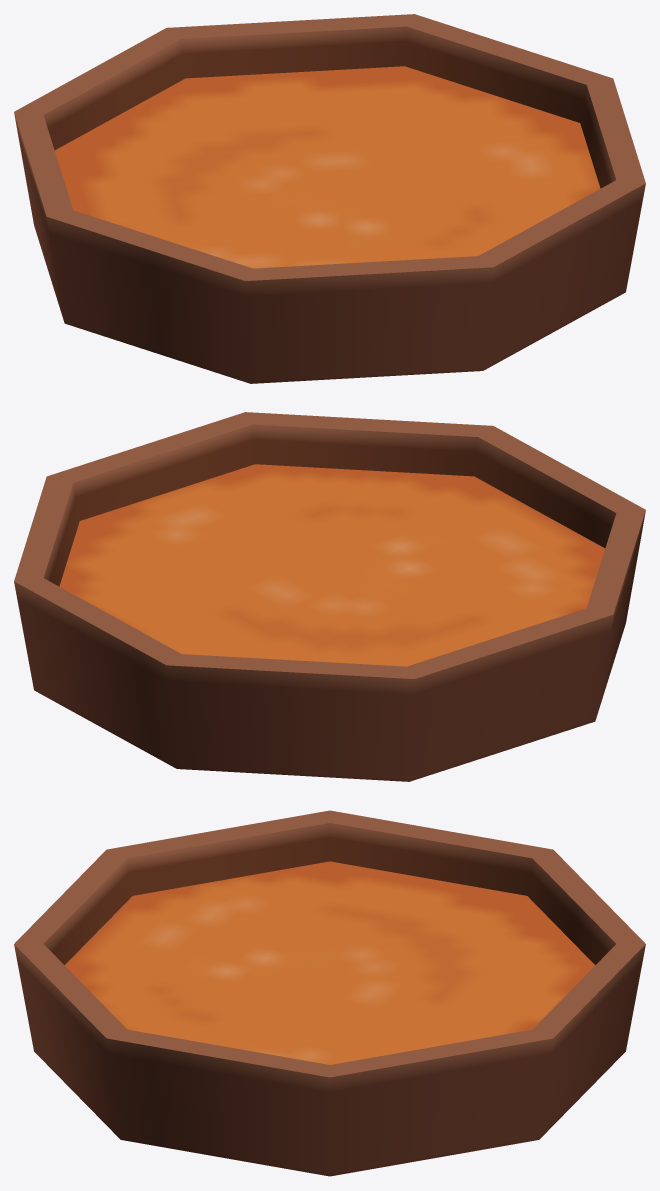
Rendered from Pixel_Misc_S_0022.fbx.
3 views of the same model, one above another, from view 1: azimuth 30°, elevation 25°; view 2: azimuth 150°, elevation 25°; view 3: azimuth 270°, elevation 25° (orthographic). The views are drawn at different scales.
Parts seen in each view (by area): view 1: Pixel_Misc_S_0022; view 2: Pixel_Misc_S_0022; view 3: Pixel_Misc_S_0022.
Boxes of the visible parts, x1,y1,x2,y2 form: Pixel_Misc_S_0022: [14, 14, 645, 383]; Pixel_Misc_S_0022: [14, 412, 645, 781]; Pixel_Misc_S_0022: [14, 810, 645, 1176].
Size of the model in its own units: 43.12 by 8.09 by 43.12.
